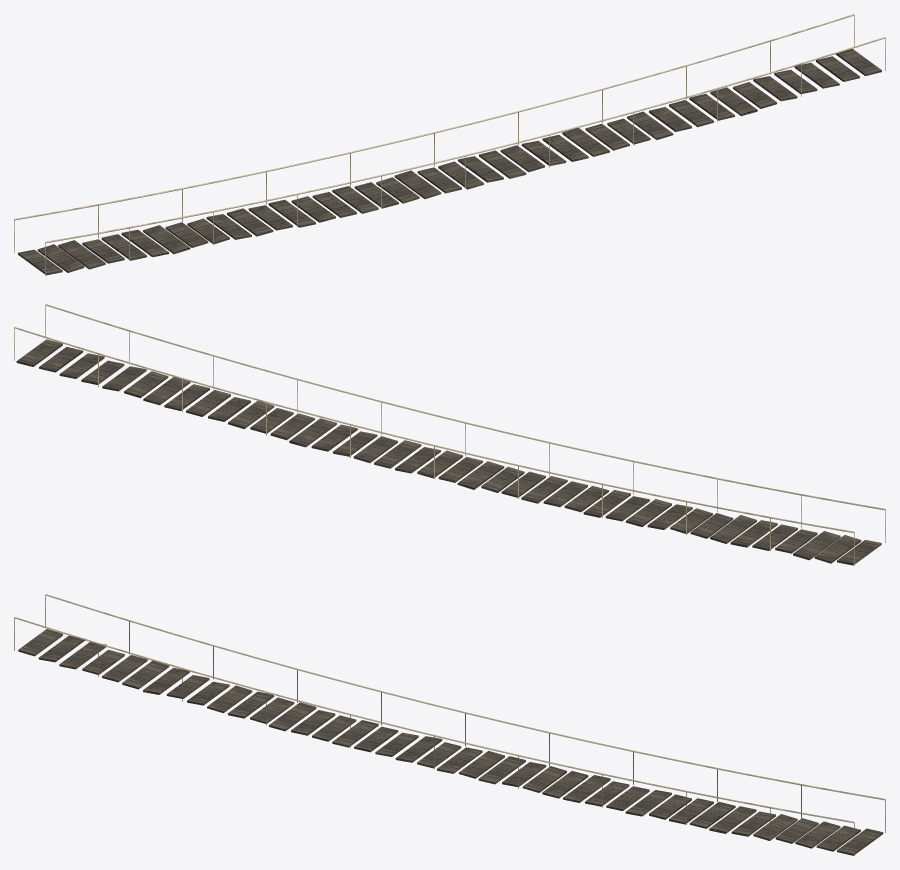
File: puente_tablas.obj
3 renders of one model, top to bottom at view 1: azimuth 30°, elevation 25°; view 2: azimuth 150°, elevation 25°; view 3: azimuth 330°, elevation 25°, orthographic.
Visible parts, largest first — view 1: puente_tablas; view 2: puente_tablas; view 3: puente_tablas.
Boxes of the visible parts, left/top/right/bottom form: puente_tablas: left=14, top=14, right=885, bottom=275; puente_tablas: left=14, top=304, right=885, bottom=565; puente_tablas: left=14, top=594, right=885, bottom=855.
Bounding box in the file's own units: 28.03 × 1.63 × 1.85.
Materials: 2 (2 with a texture image).
